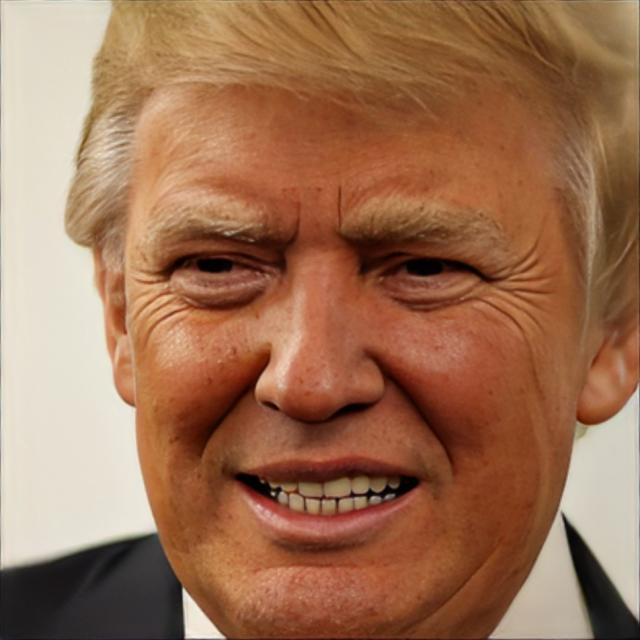disgust: (121, 48, 581, 640)
